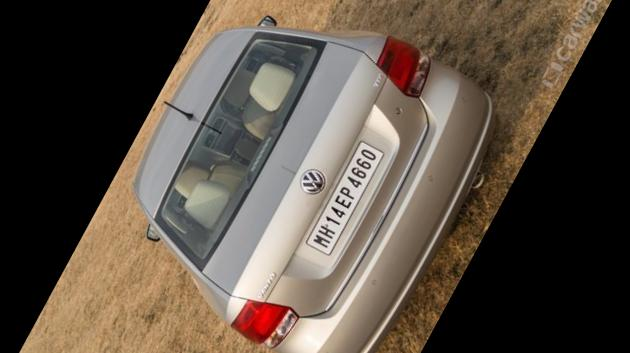plate: (294, 128, 394, 259)
